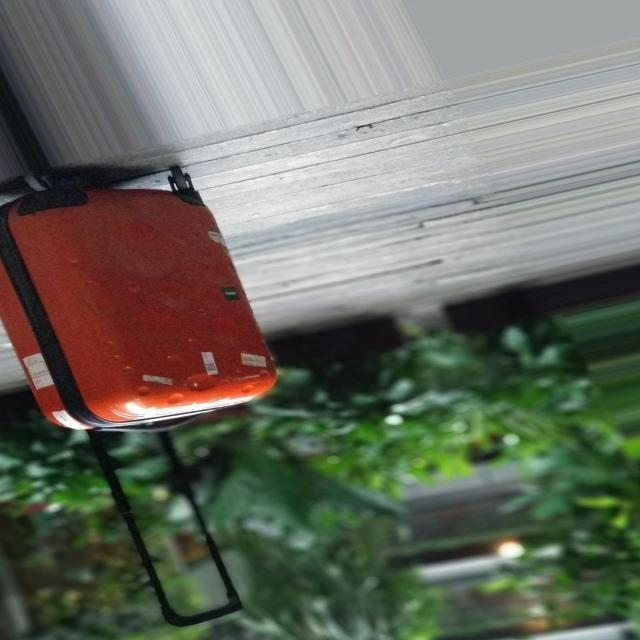Suitcase: (0, 164, 308, 632)
